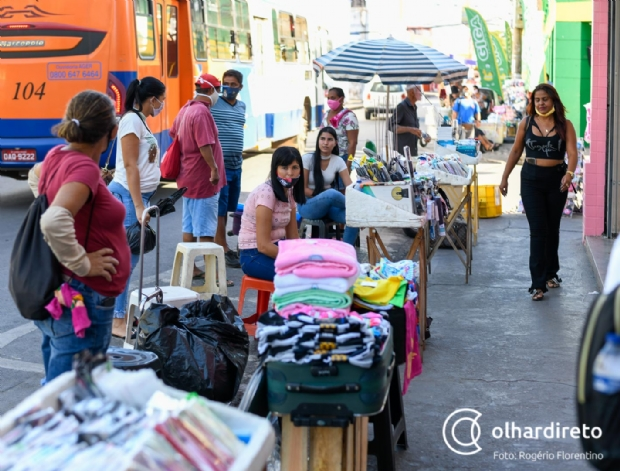mask_weared_incorrect: (270, 158, 302, 188), (532, 90, 555, 117)
